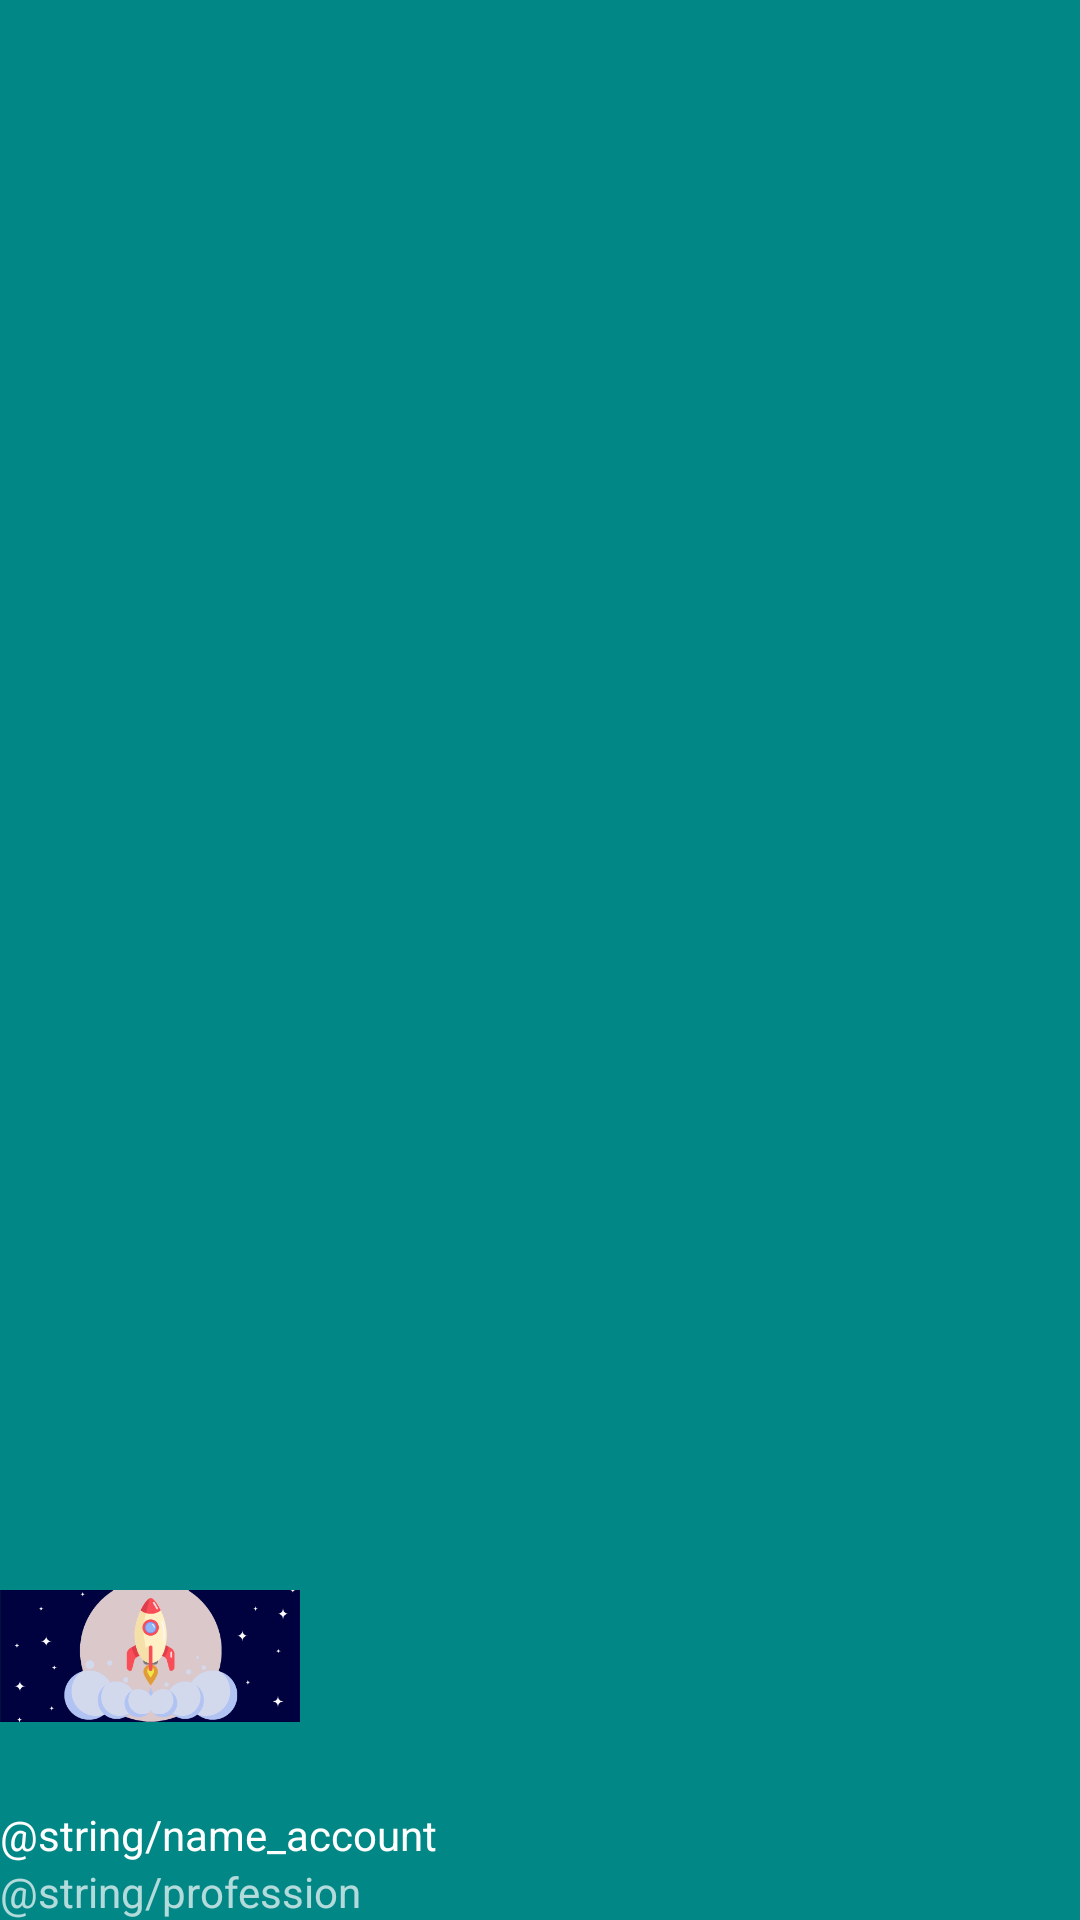

Named icons in this screenshot (1080*1920) and their bounding boxes, (x1, y1, x2, y2):
rocket: (0, 1590, 300, 1722)
